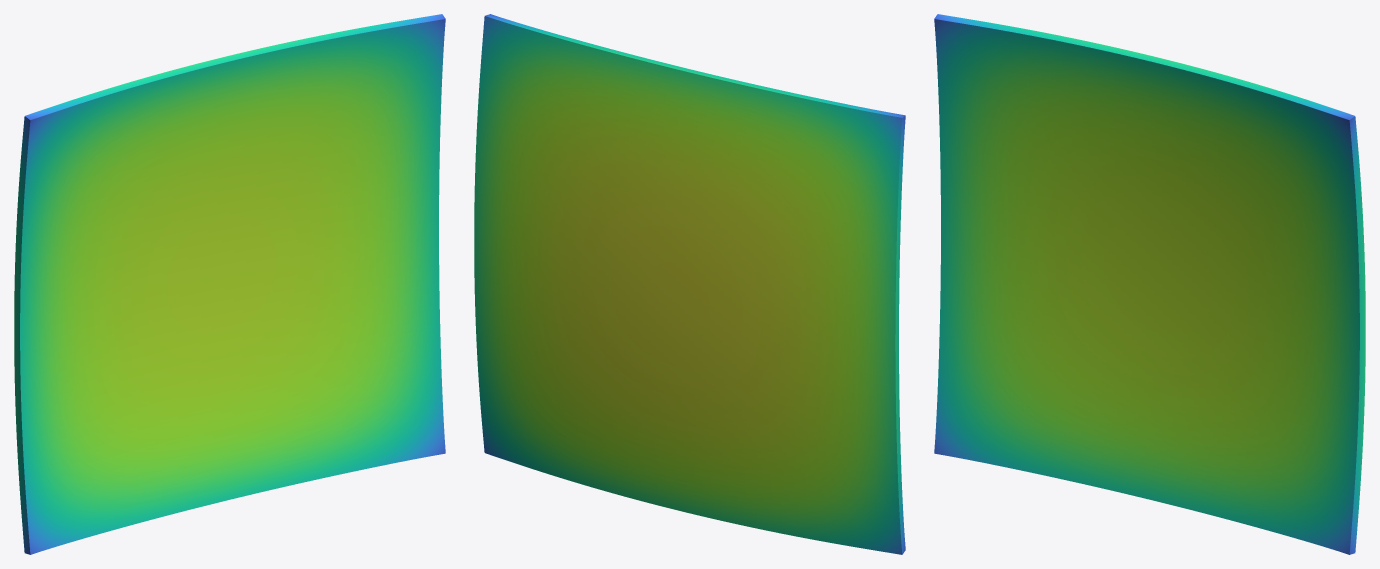
File: Eclipse_DISP_PEEK_2mm.gltf
3 views of the same model, side by side, from view 1: azimuth 30°, elevation 25°; view 2: azimuth 150°, elevation 25°; view 3: azimuth 330°, elevation 25° (orthographic).
Visible parts, largest first — view 1: Renderer Node; view 2: Renderer Node; view 3: Renderer Node.
Boxes of the visible parts, x1,y1,x2,y2 form: Renderer Node: [14, 14, 445, 554]; Renderer Node: [474, 14, 905, 554]; Renderer Node: [934, 14, 1365, 554].
Bounding box in the file's own units: 71.47 × 71.47 × 6.46.
1 material, 1 textured.
